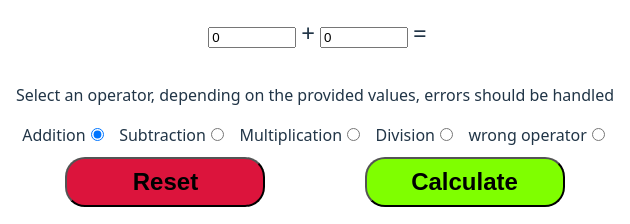
Test case: CalculateForm Test › Divisions › UI should have a division symbol
The width and height of the screenshot is (630, 224).
Click the radio button with id "division": coordinates (446, 134) [440,128,453,141]
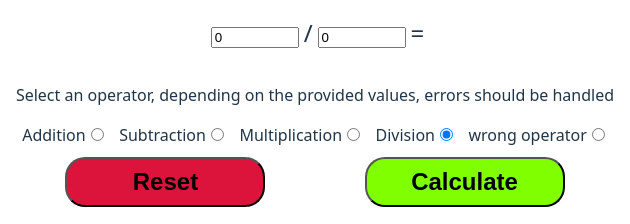
Expected: the text with id "operatorSymbol" reads "/", [304,16,313,49]
